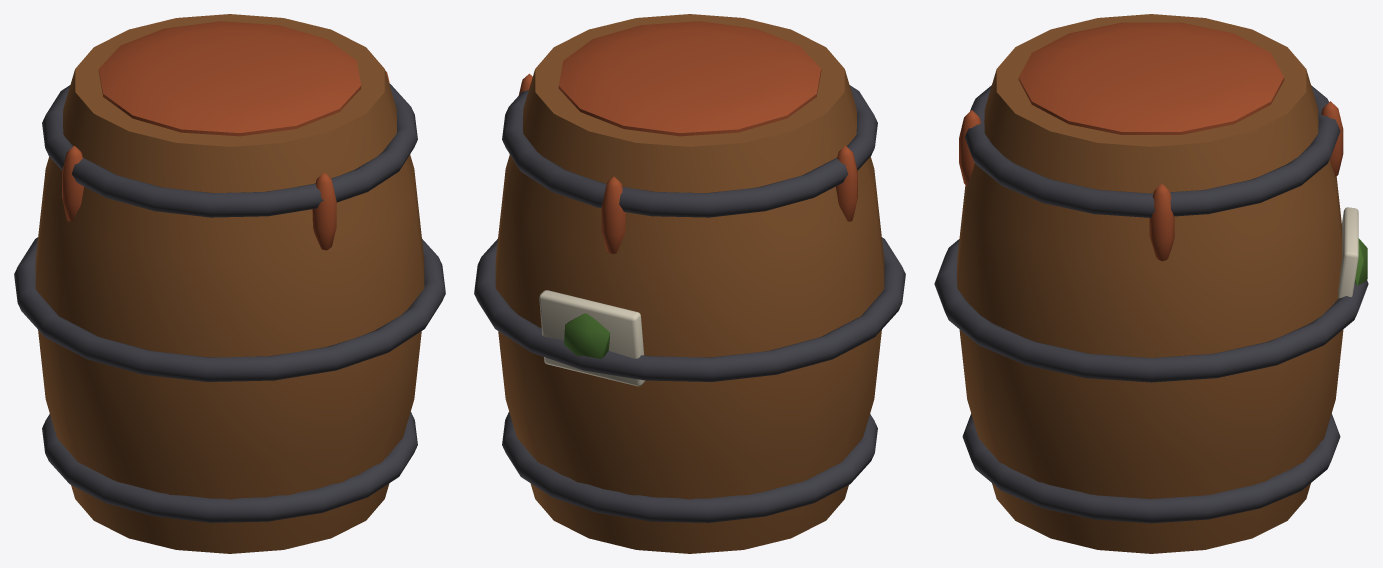
The model's file is d_barrel.fbx.
3 views of the same model, side by side, from view 1: azimuth 30°, elevation 25°; view 2: azimuth 150°, elevation 25°; view 3: azimuth 270°, elevation 25° (orthographic).
Visible parts, largest first — view 1: d_barrel; view 2: d_barrel; view 3: d_barrel.
Boxes of the visible parts, x1=… form: d_barrel: x1=14, y1=14, x2=445, y2=553; d_barrel: x1=474, y1=14, x2=905, y2=553; d_barrel: x1=934, y1=14, x2=1368, y2=553.
Size of the model in its own units: 1.16 by 1.25 by 1.16.
